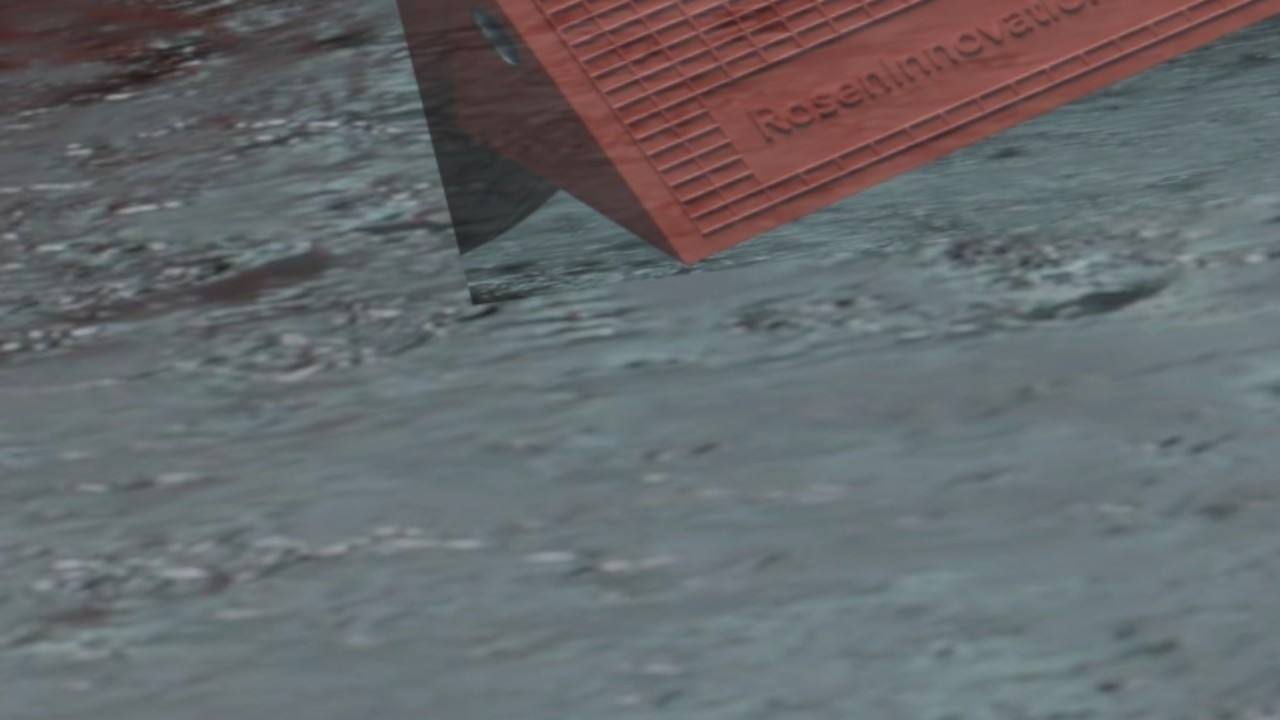chock: (333, 0, 1280, 305)
